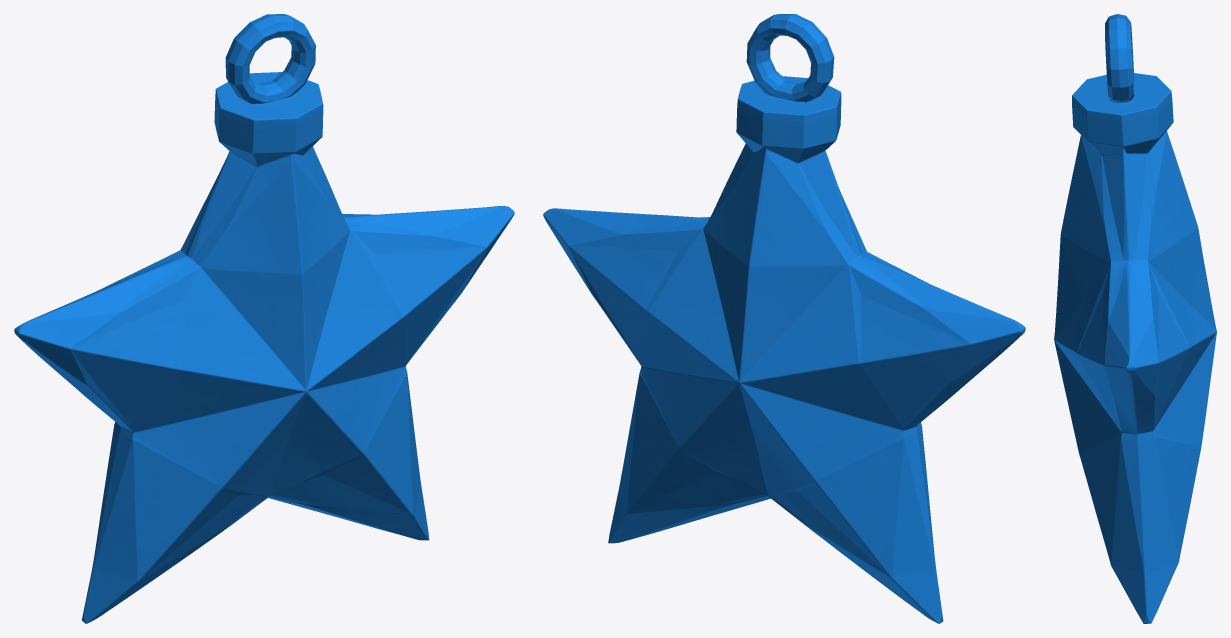
Rendered from star.glb.
The picture shows the model from 3 angles, left to right: view 1: azimuth 30°, elevation 25°; view 2: azimuth 150°, elevation 25°; view 3: azimuth 270°, elevation 25°; orthographic projection. The views are drawn at different scales.
Visible parts, largest first — view 1: 5d9253398c9e4efc349569ffd16b8340; view 2: 5d9253398c9e4efc349569ffd16b8340; view 3: 5d9253398c9e4efc349569ffd16b8340.
Boxes of the visible parts, box(x1,y1,x2,y2) form: 5d9253398c9e4efc349569ffd16b8340: box(14, 14, 514, 623); 5d9253398c9e4efc349569ffd16b8340: box(543, 14, 1025, 623); 5d9253398c9e4efc349569ffd16b8340: box(1054, 14, 1216, 623).
Bounding box in the file's own units: 33.58 × 37.3 × 10.41.
